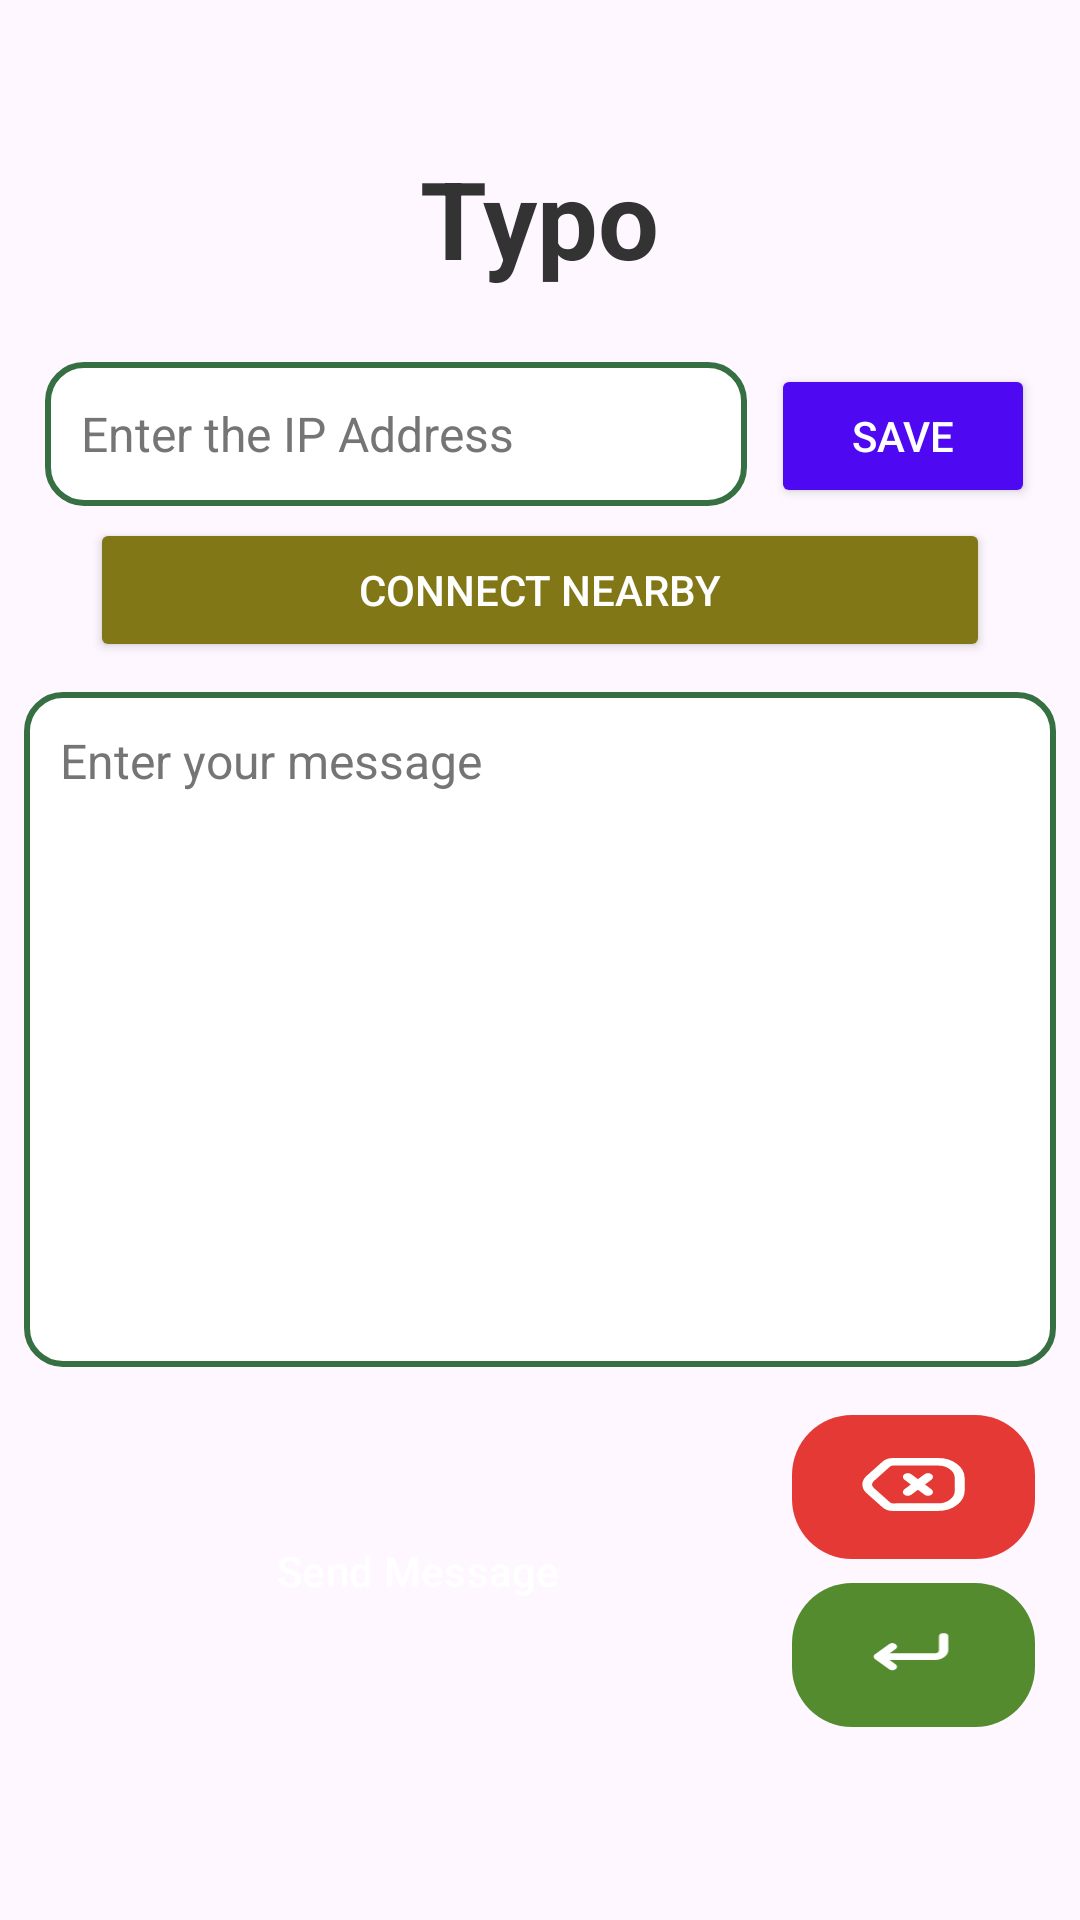

Screen size 1080x1920. Icon name, then its center in pixels as (x,y):
backspace: (913,1487)
Enter: (913,1655)
